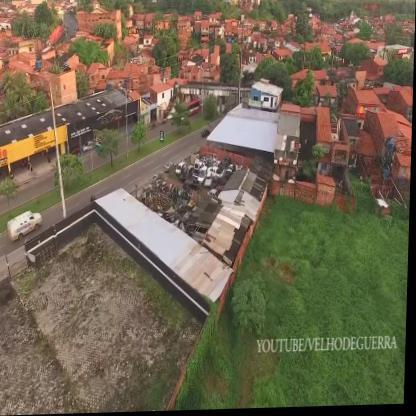lixo: (154, 179, 197, 225), (191, 153, 228, 193)
